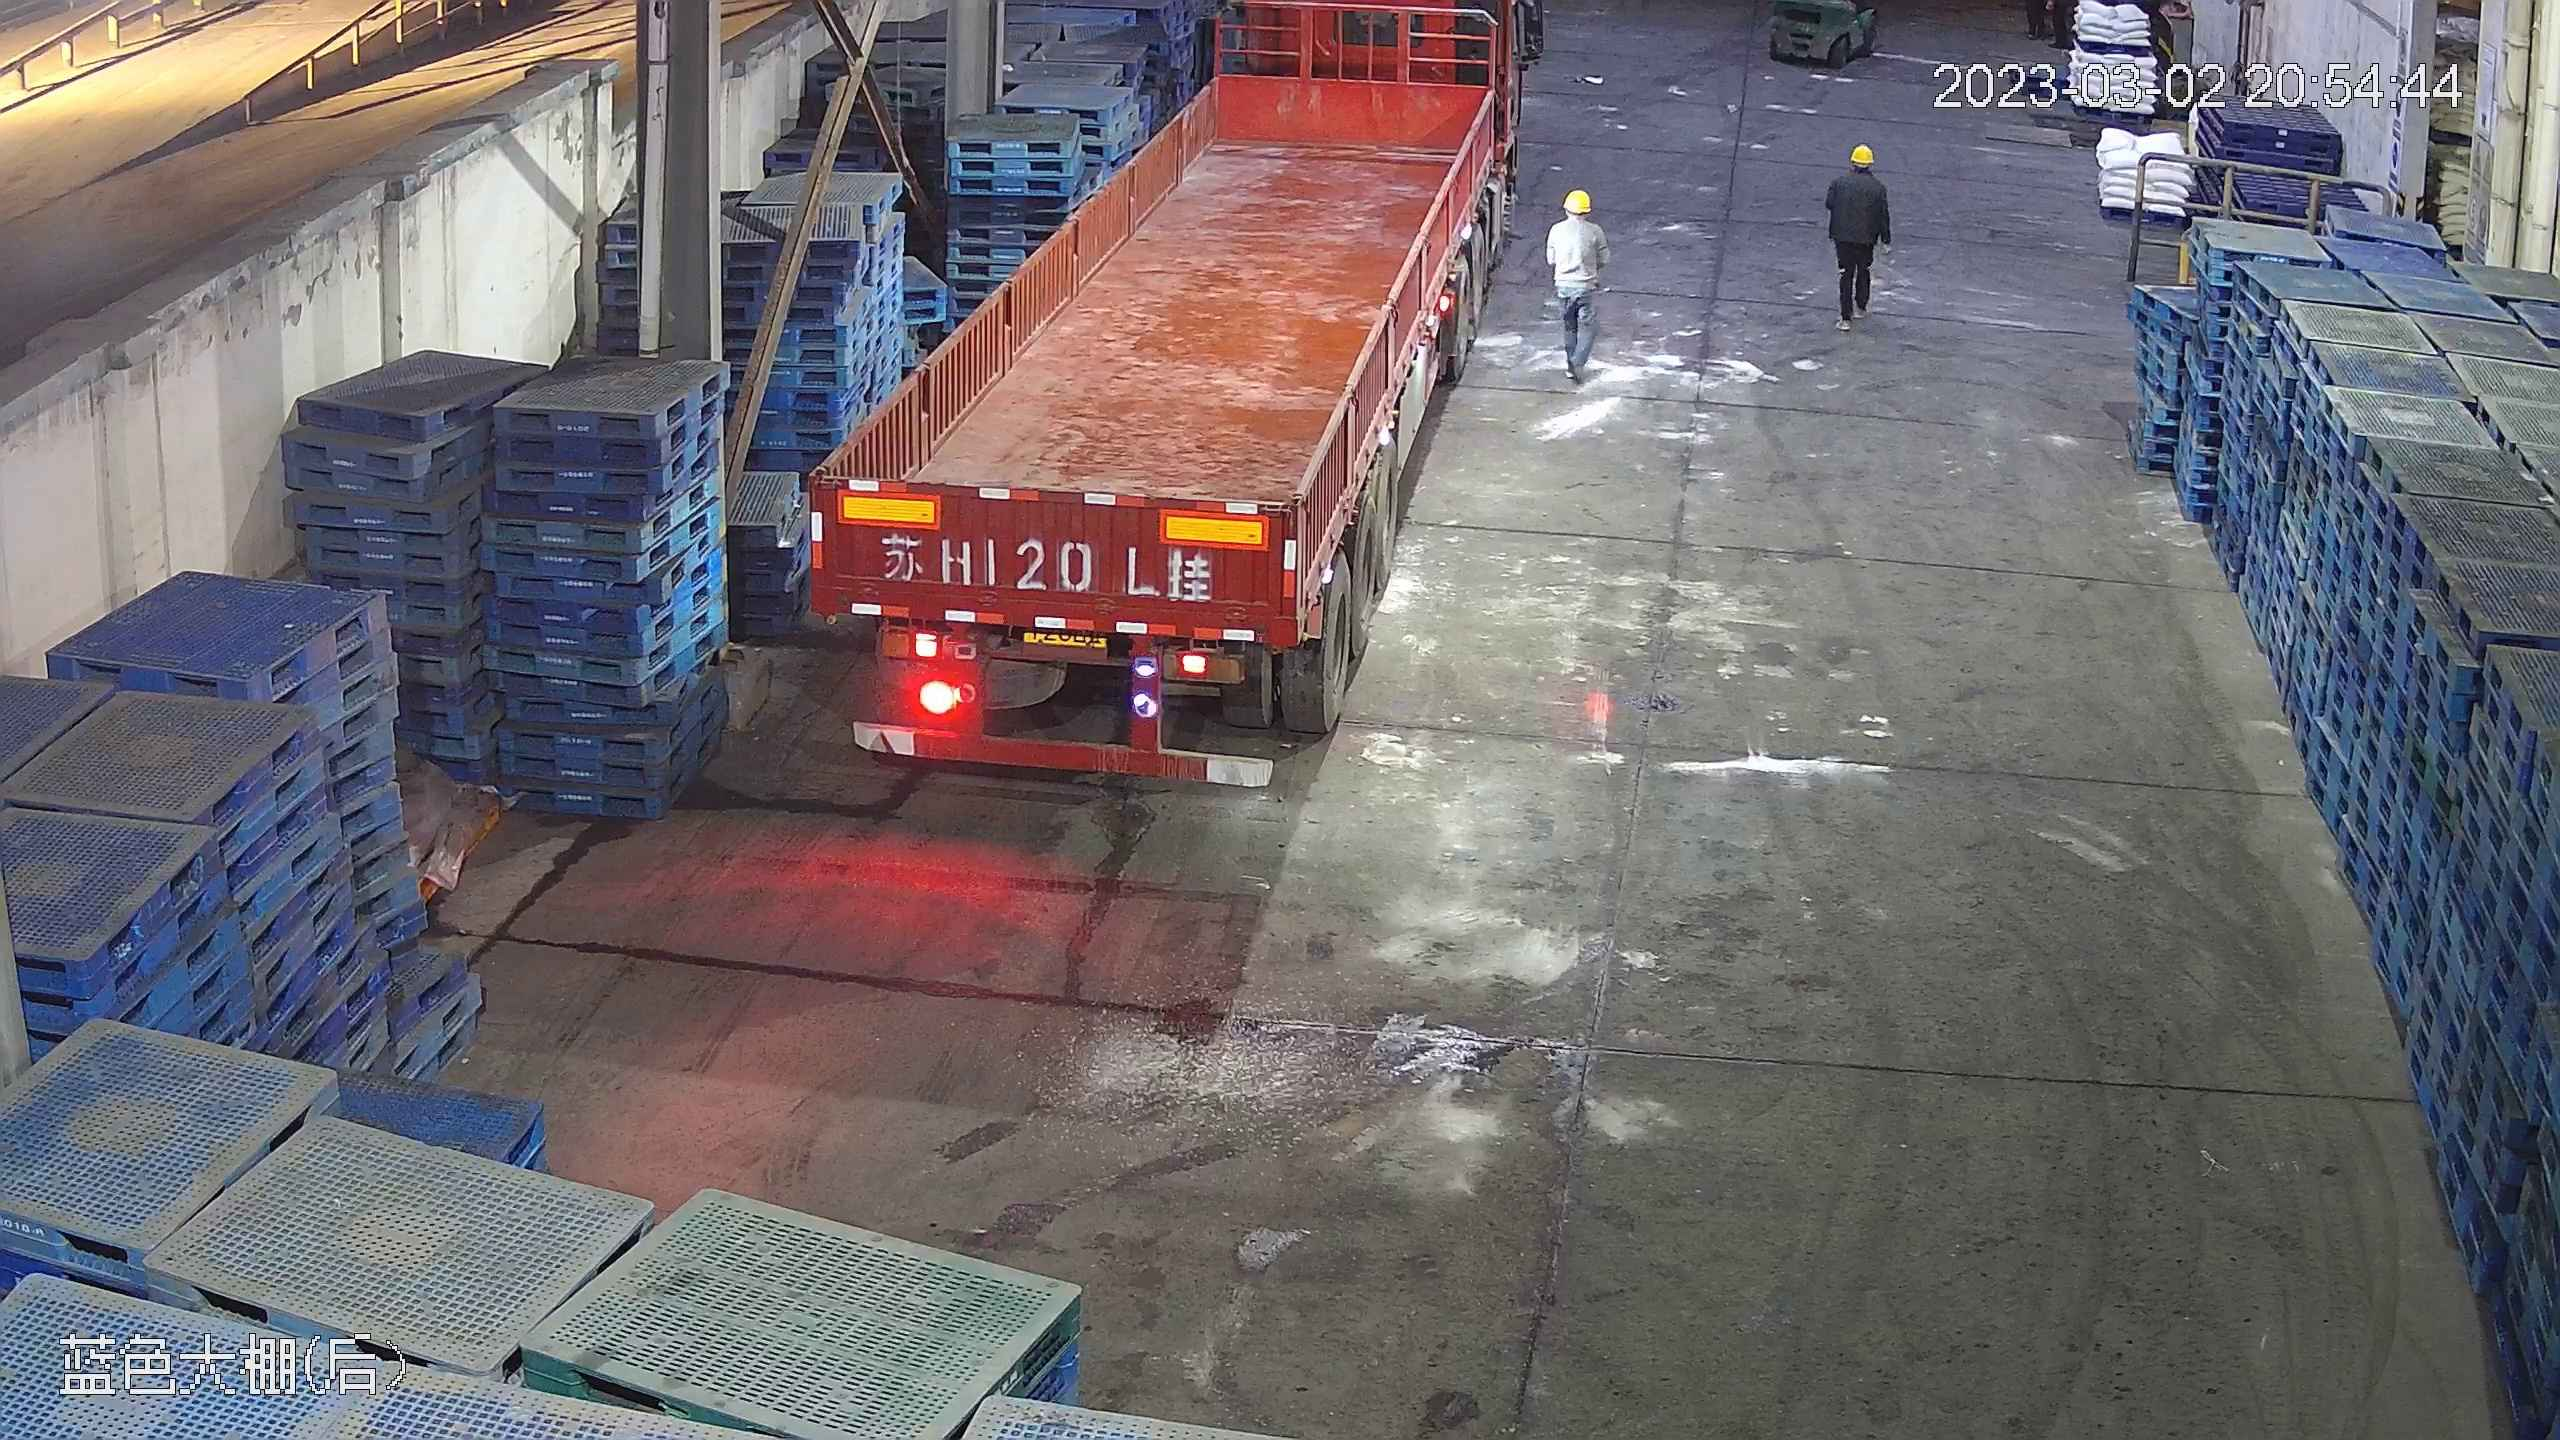head: (1830, 141, 1888, 196), (1551, 186, 1601, 245)
helmet: (1561, 187, 1591, 212), (1847, 142, 1876, 164)
people: (1823, 137, 1893, 331), (1545, 182, 1608, 381)
truck: (796, 5, 1525, 785)
